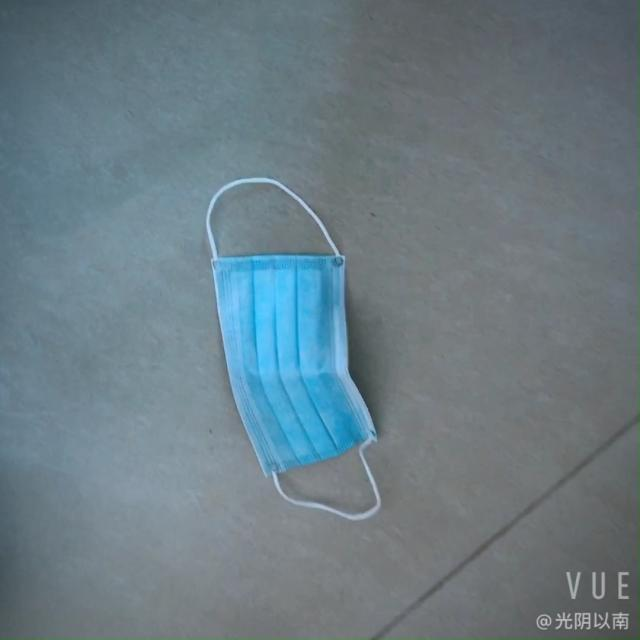face mask: (222, 165, 400, 512)
